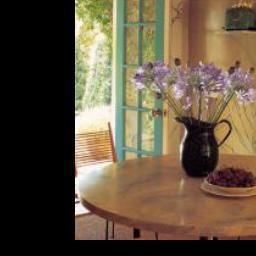Puerta: (116, 0, 166, 155)
